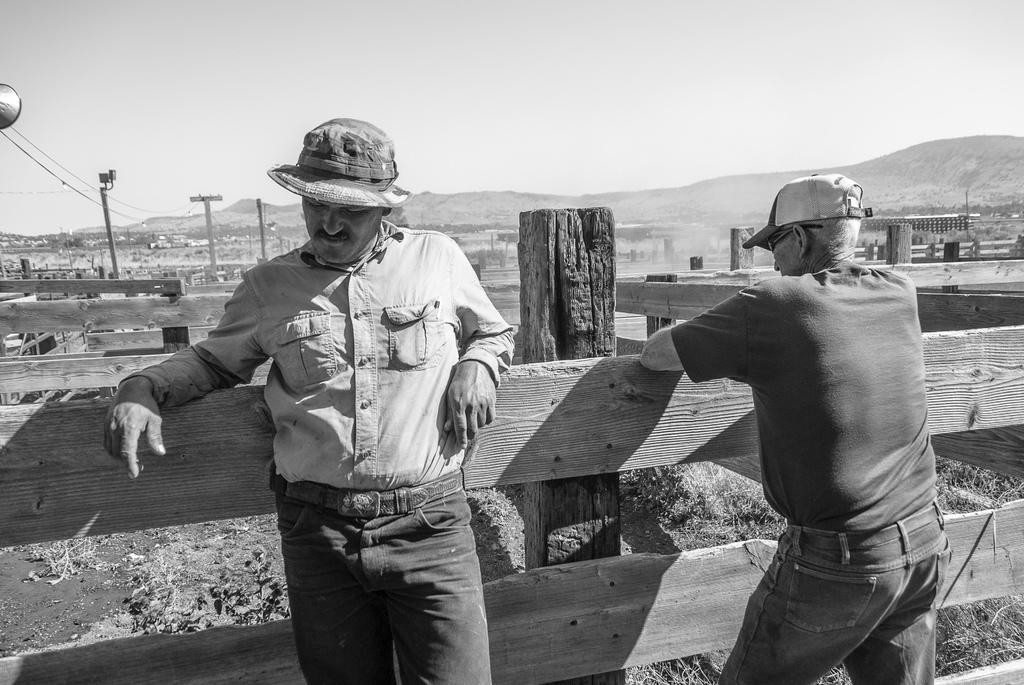Hat: (268, 115, 408, 208), (742, 170, 874, 250)
